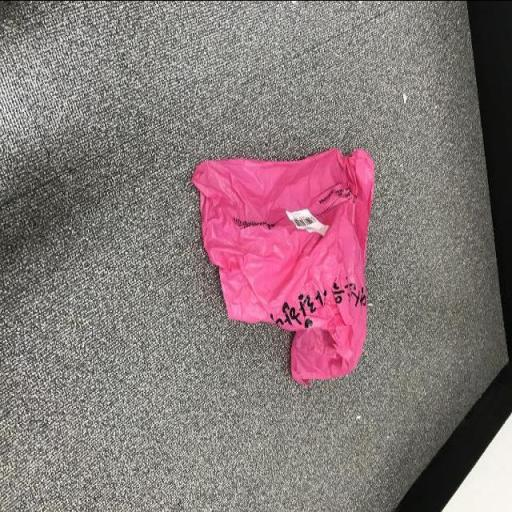plastic-bag: (191, 142, 378, 397)
